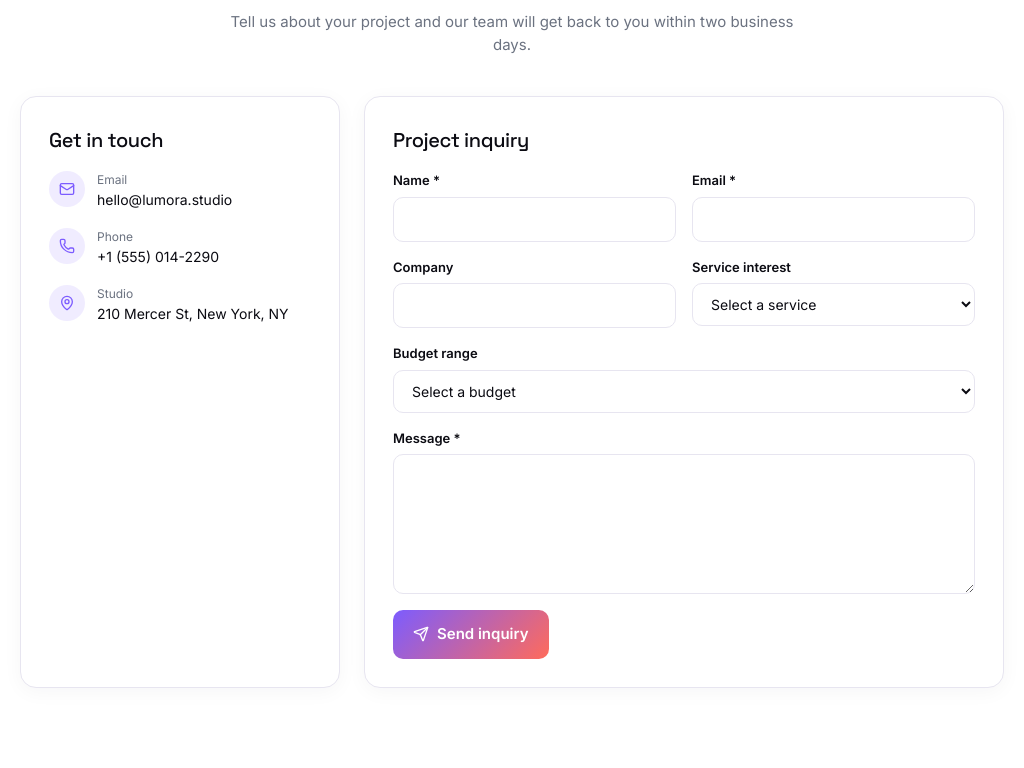
Test: Contact page › shows validation errors and does not submit when empty
(page scrolled)
Click the button "Send inquiry": (471,634) [393, 610, 548, 658]
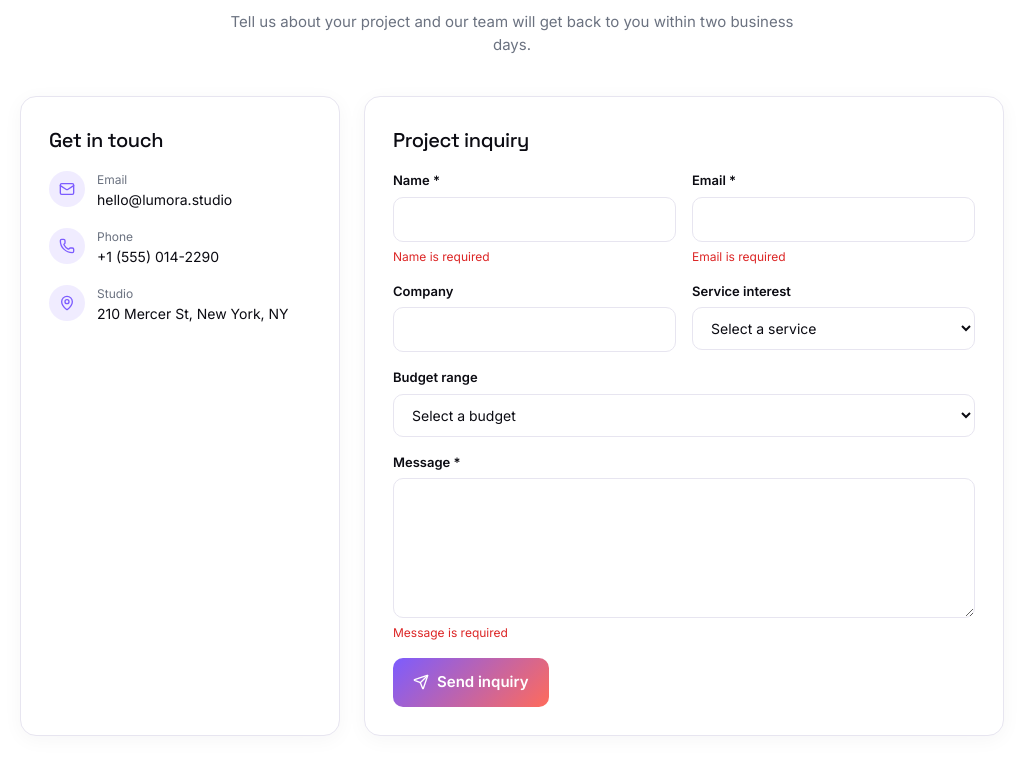
Expected: the text "Name is required" is shown, [393, 248, 490, 264]
Expected: the text "Email is required" is shown, [692, 248, 786, 264]
Expected: the text "Message is required" is shown, [393, 625, 508, 640]
